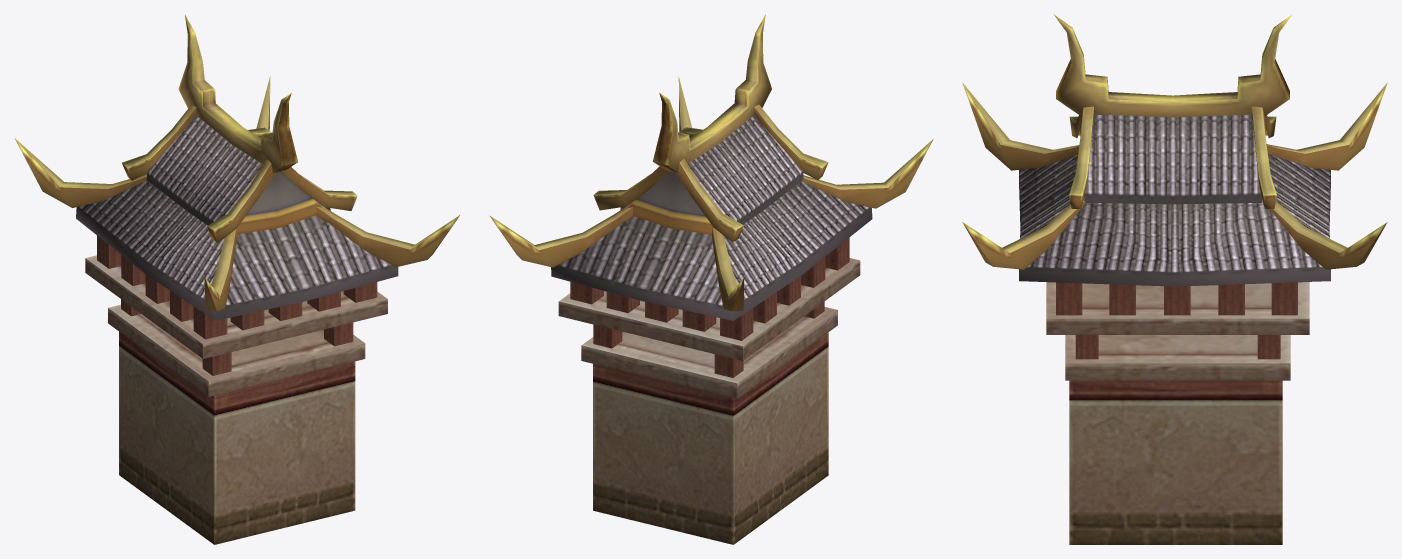
Rendered from MJ_zhanqin_05.FBX.
The picture shows the model from 3 angles, left to right: view 1: azimuth 30°, elevation 25°; view 2: azimuth 150°, elevation 25°; view 3: azimuth 270°, elevation 25°; orthographic projection. The views are drawn at different scales.
Visible parts, largest first — view 1: Object02; view 2: Object02; view 3: Object02.
Boxes of the visible parts, left/top/right/bottom form: Object02: left=15, top=15, right=459, bottom=544; Object02: left=489, top=15, right=933, bottom=544; Object02: left=962, top=14, right=1387, bottom=544.
Size of the model in its own units: 10.54 by 17.33 by 13.57.
